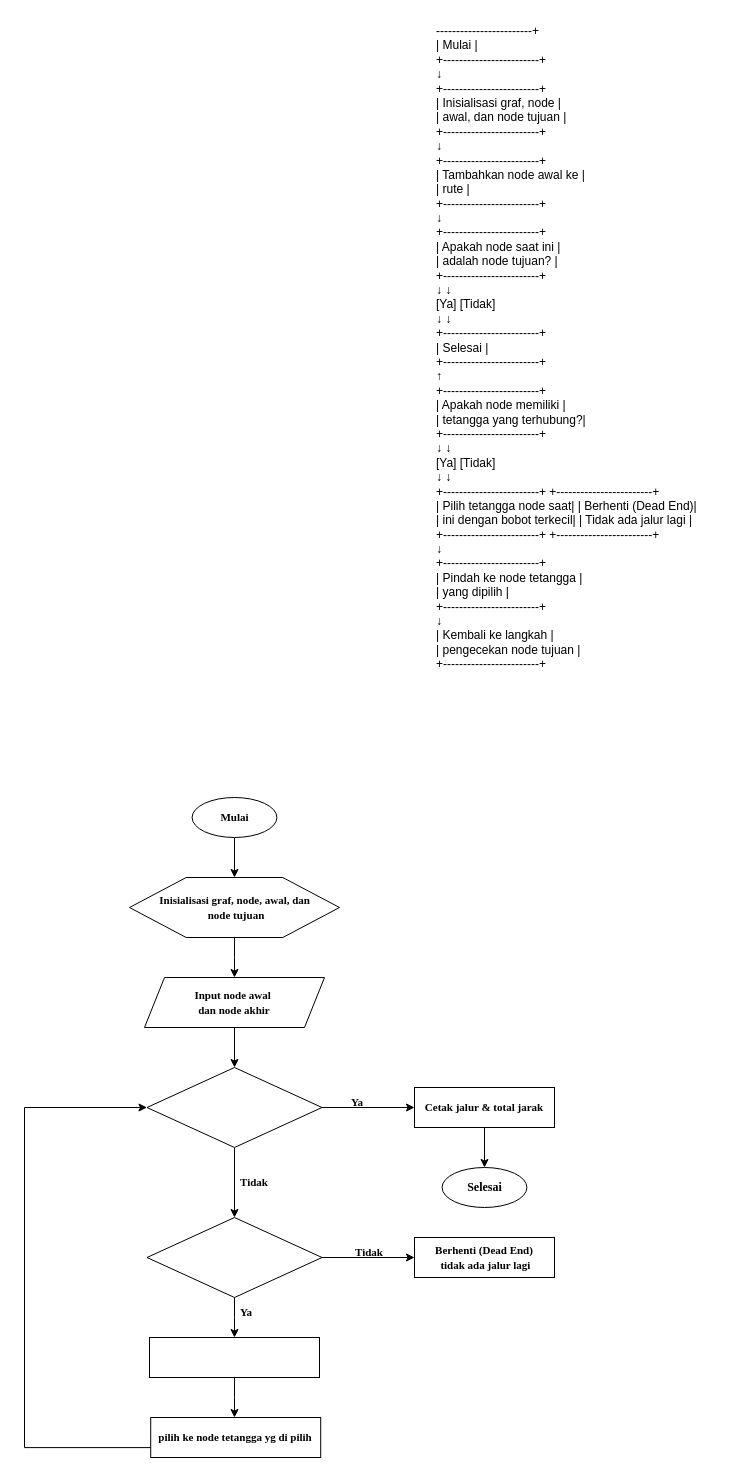
The diagram is 742 pixels wide and 1475 high, and some of its shapes have lost their labels. Each missing label, with the centre of its shape:
Apakah node memiliki tetangga yang terhubung ?: (x=234, y=1257)
Apakah node saat ini adalah node tujuan?: (x=234, y=1107)
Pilih tetangga node saat ini dengan bobot terkecil: (x=234, y=1357)
